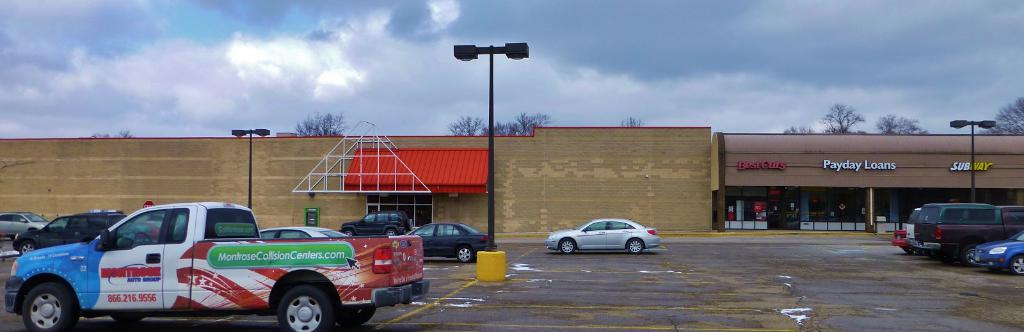cars: (10, 207, 132, 250), (540, 218, 661, 254), (408, 222, 498, 268), (974, 232, 1023, 274), (340, 211, 406, 237), (0, 205, 52, 237), (258, 225, 349, 241)
